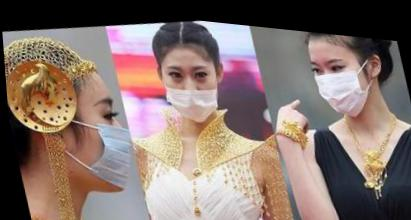OK: (58, 81, 142, 200), (306, 39, 377, 117)
WRONG: (157, 44, 225, 125)
